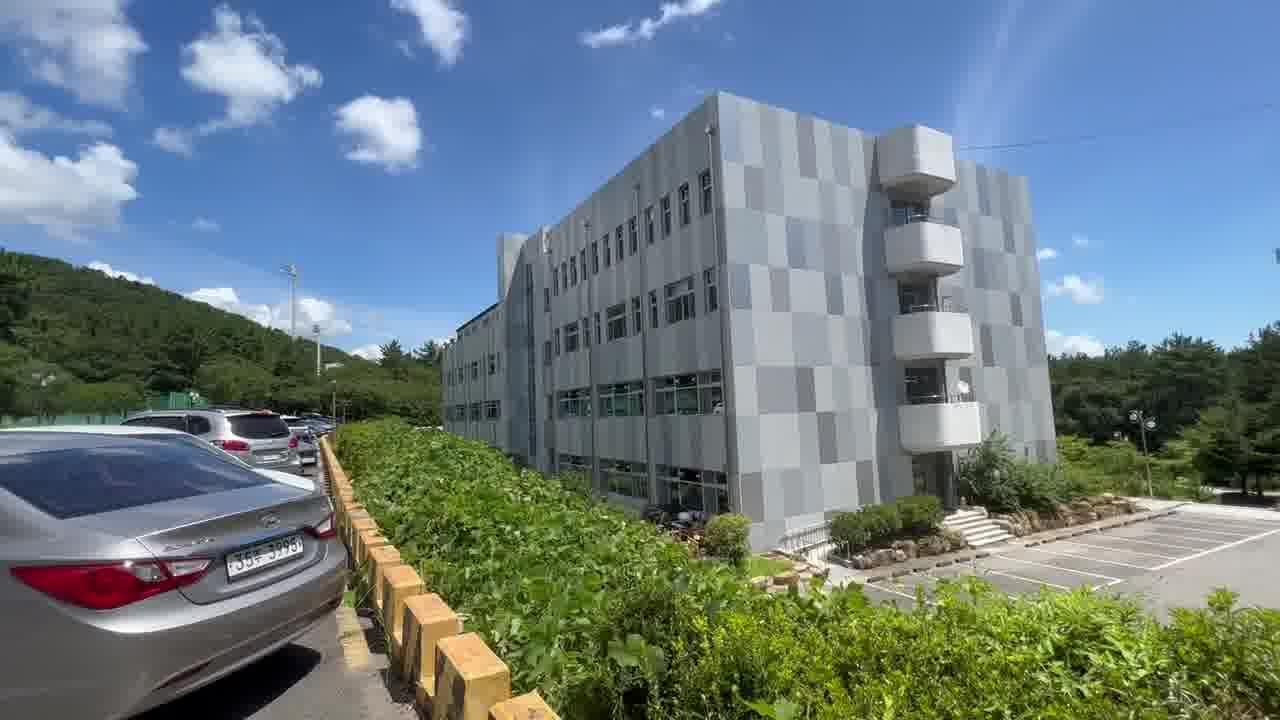building: (503, 61, 1062, 483)
